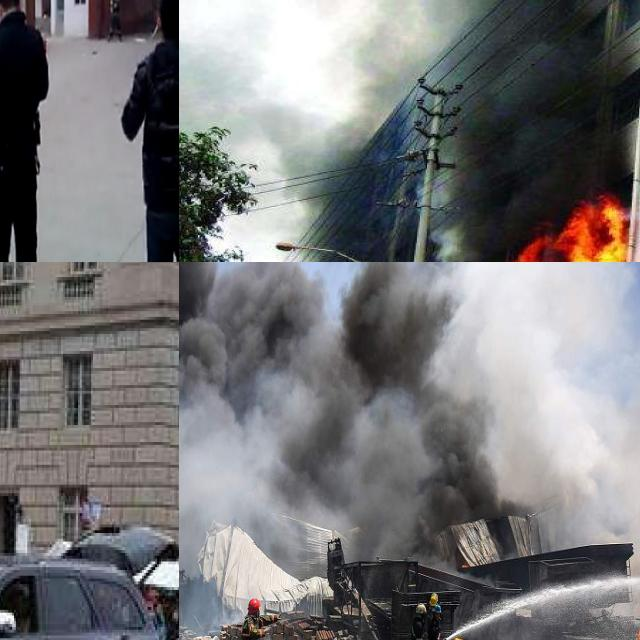fire: (431, 194, 621, 262)
smoke: (179, 262, 640, 576), (363, 0, 634, 262), (179, 29, 396, 262)
